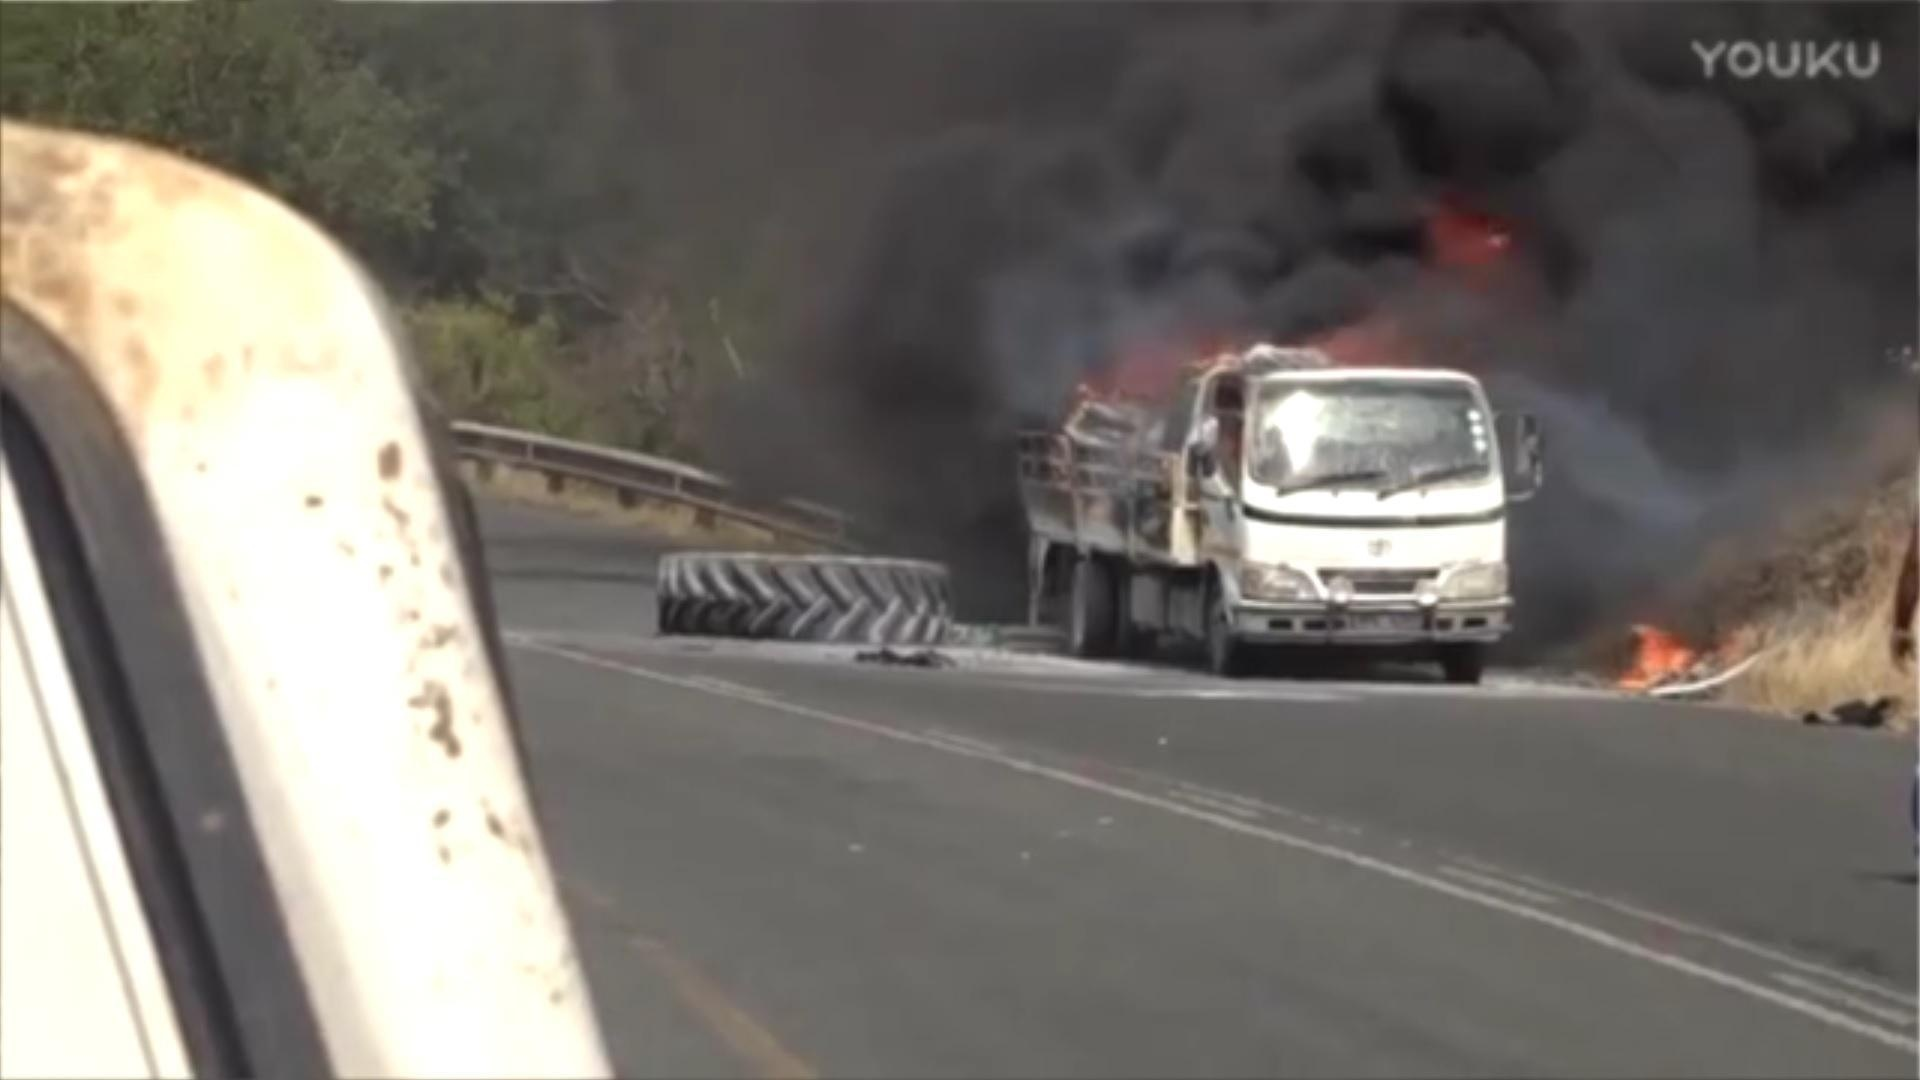fire: (0, 115, 604, 1063), (1617, 622, 1698, 688)
